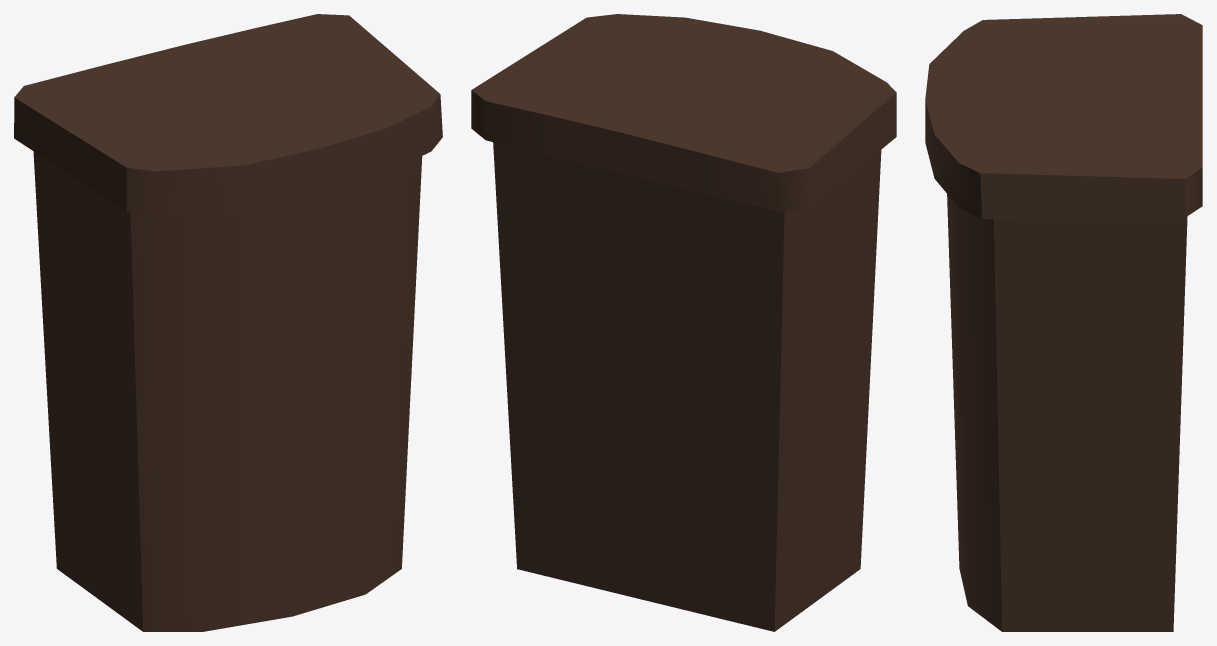
Rendered from trashCan.fbx.
The picture shows the model from 3 angles, left to right: view 1: azimuth 30°, elevation 25°; view 2: azimuth 150°, elevation 25°; view 3: azimuth 270°, elevation 25°; orthographic projection.
Parts seen in each view (by area): view 1: pCube1, pCube2; view 2: pCube1, pCube2; view 3: pCube1, pCube2.
Part boxes in pixels (x1,y1,x2,y2): pCube1: (33,151,422,631); pCube2: (14,14,442,217); pCube1: (493,142,881,631); pCube2: (471,14,896,211); pCube1: (947,194,1187,631); pCube2: (925,14,1202,218).
Size of the model in its own units: 2.02 by 2.73 by 1.45.
